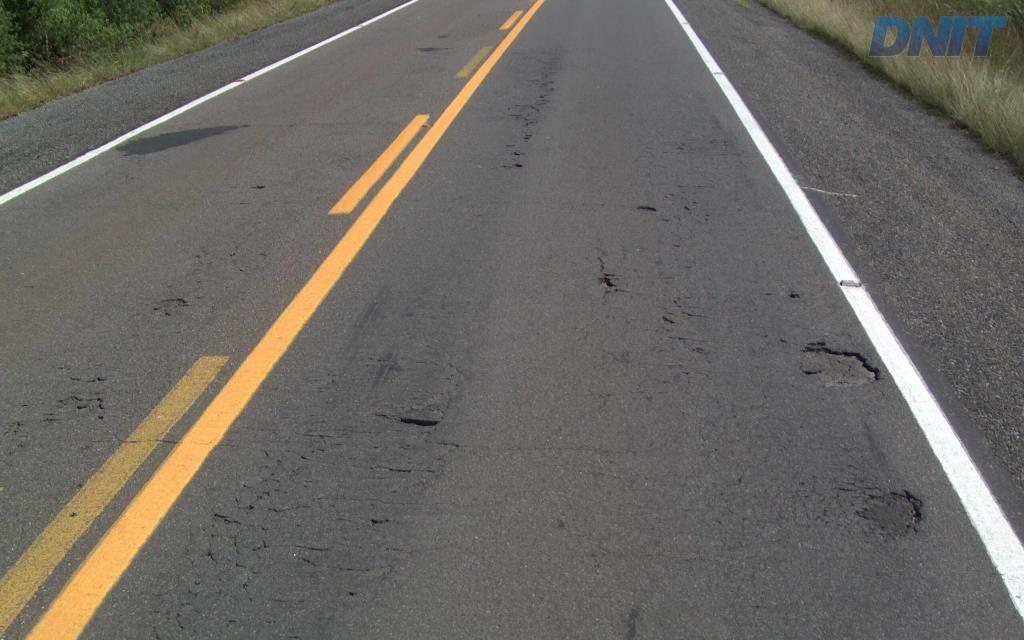crack: (374, 406, 441, 431)
pothole: (784, 340, 886, 395), (847, 475, 925, 540), (390, 413, 450, 433), (592, 264, 622, 298)
